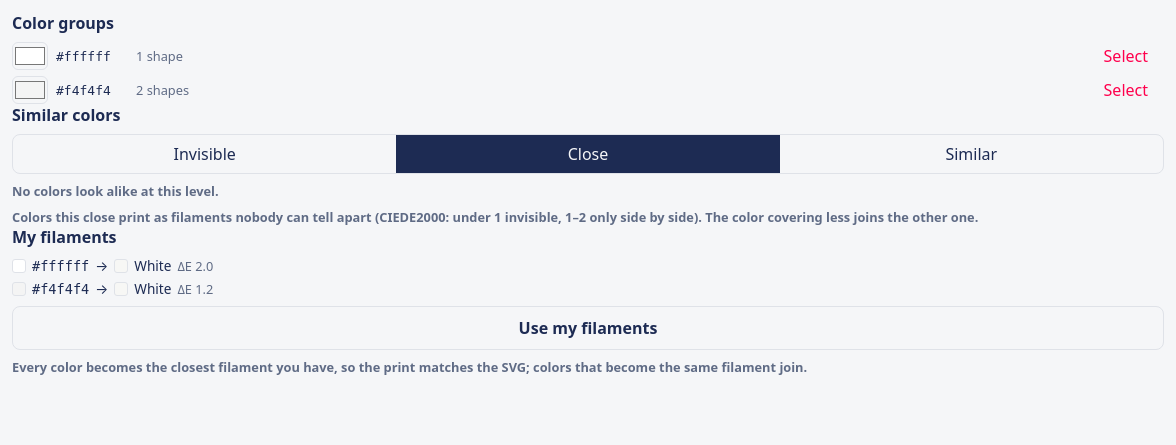
EditorPalettePanel › merges only as close colors as the chosen level
expect the text "No colors look alike at this level." is shown: met, box [12, 182, 219, 200]
Click the radio button labelled "Similar".
click(971, 154)  # box [780, 135, 1163, 173]
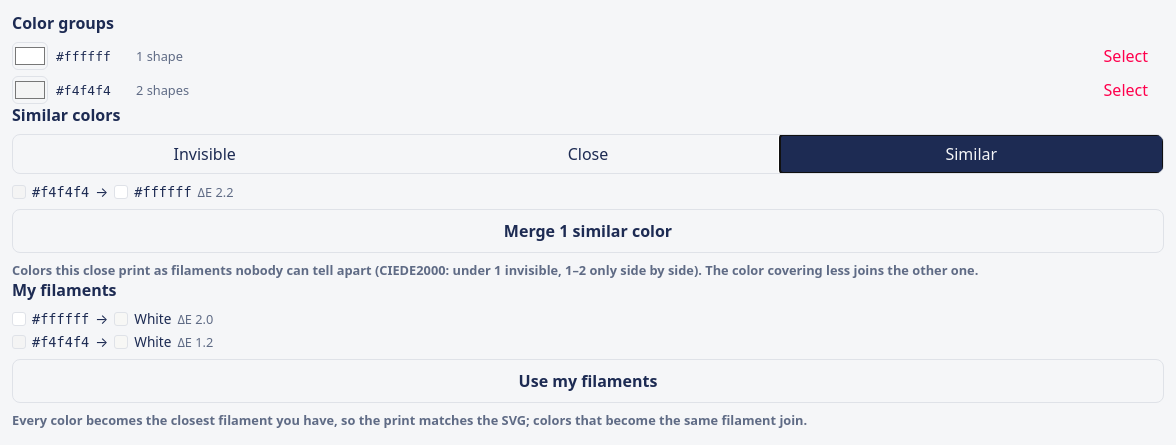
expect the button "Merge 1 similar color" is shown: met, box [12, 209, 1164, 253]
